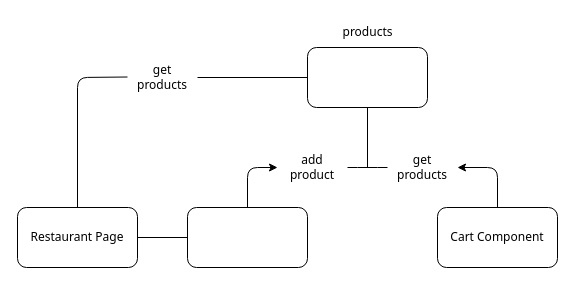
The diagram is 575 pixels wide and 285 high, and some of its shapes have lost their labels. The shapes that lost their labels are listed below. From the top down, each one's box as (x1, y1, x2, y2) in pixels, then its label:
(306, 46, 428, 108): Cart Context
(186, 206, 308, 268): Product Page
